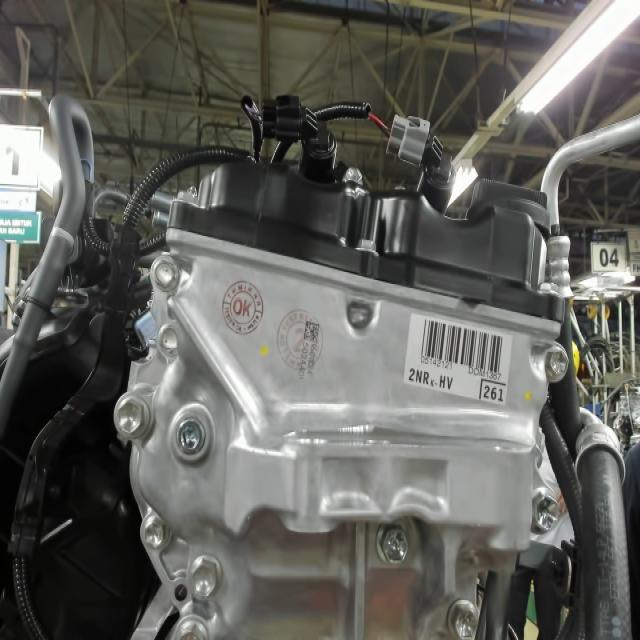Engine Assy-261: (478, 375, 510, 409)
Hose Canister-MR: (48, 221, 78, 252)
